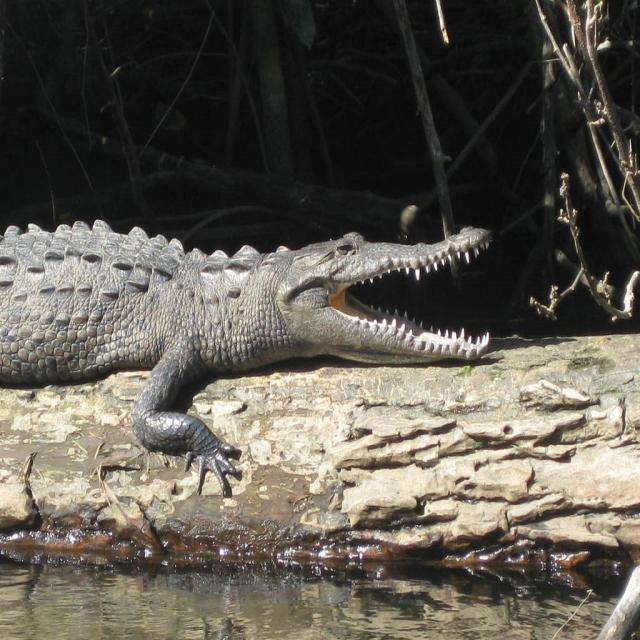crocodile: (0, 208, 517, 512)
